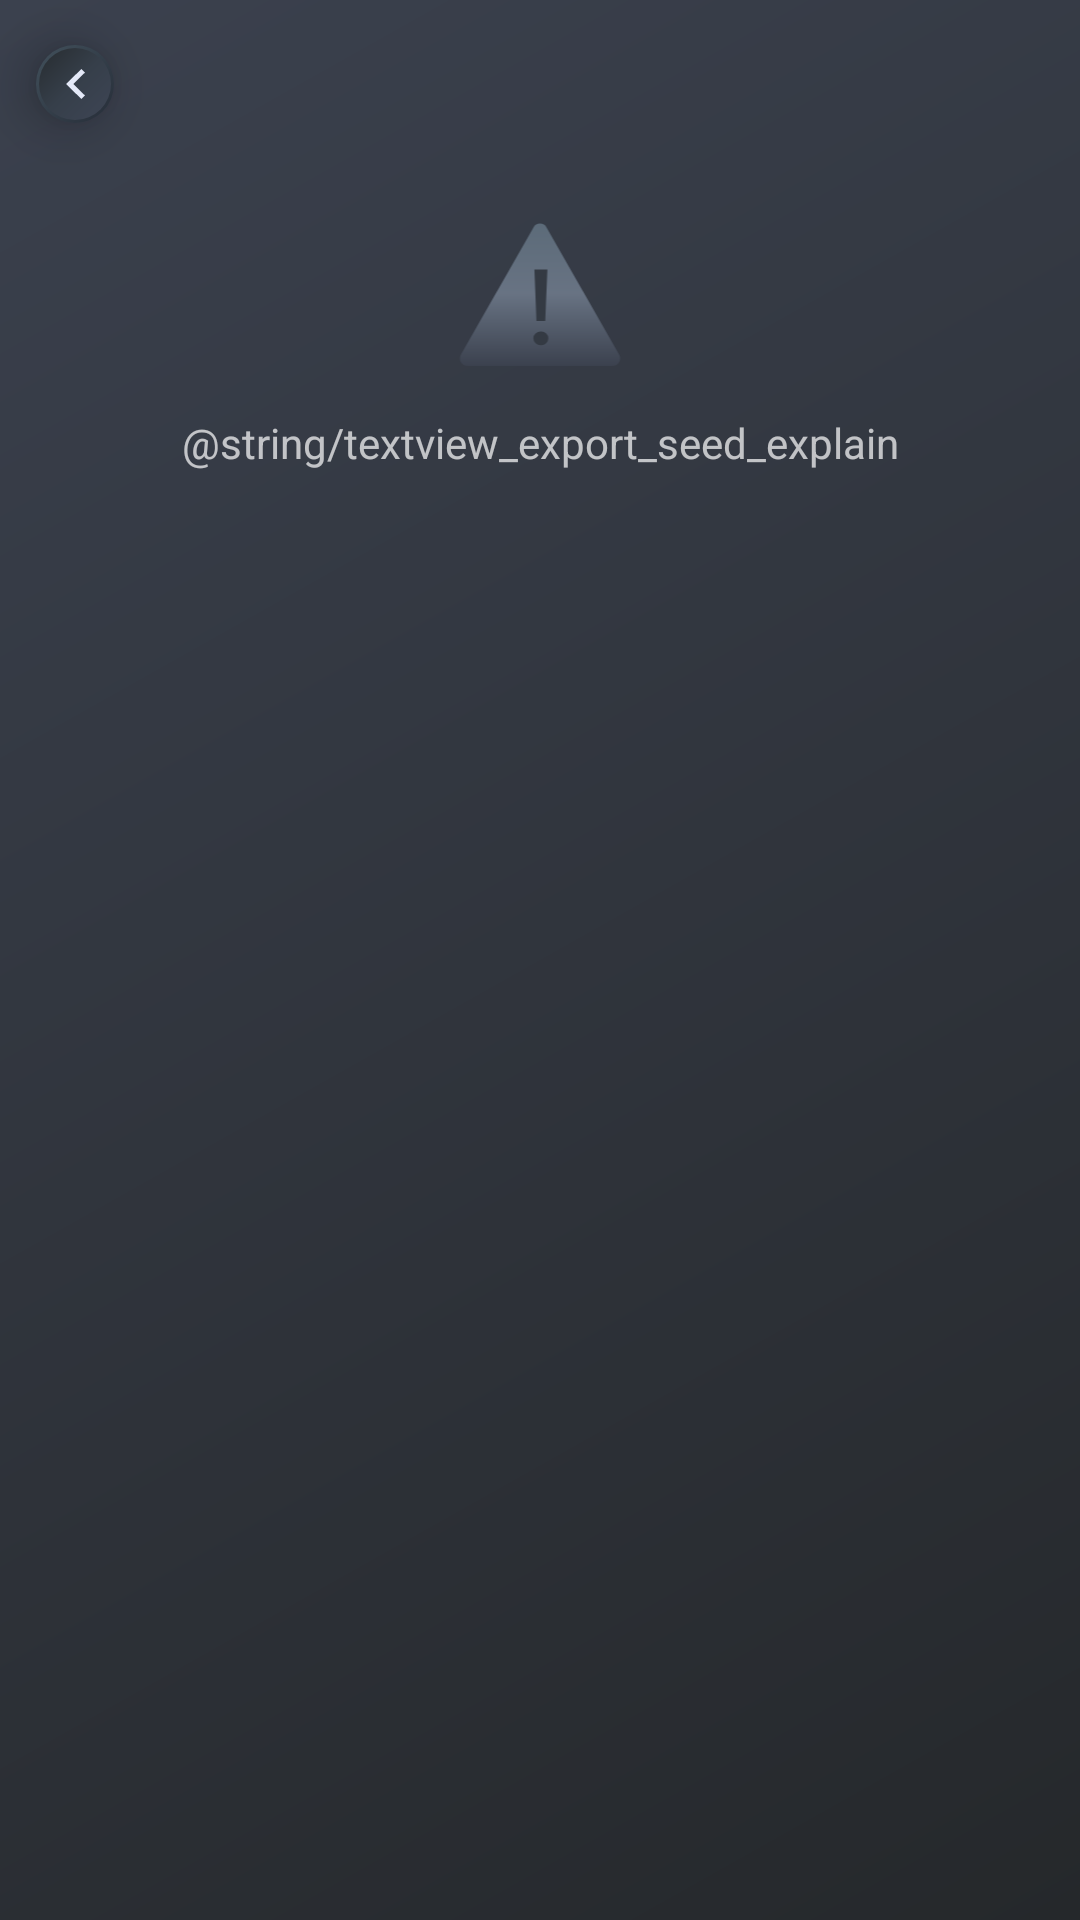

Screen size 1080 x 1920. Icon name, then its center in pixels as (x=x, y=y):
back: (x=75, y=84)
warning: (x=540, y=285)
